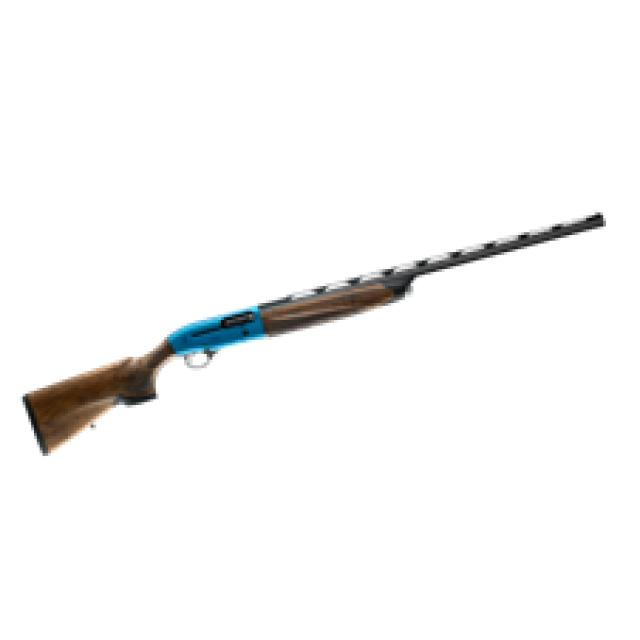rifle: (10, 206, 608, 468)
